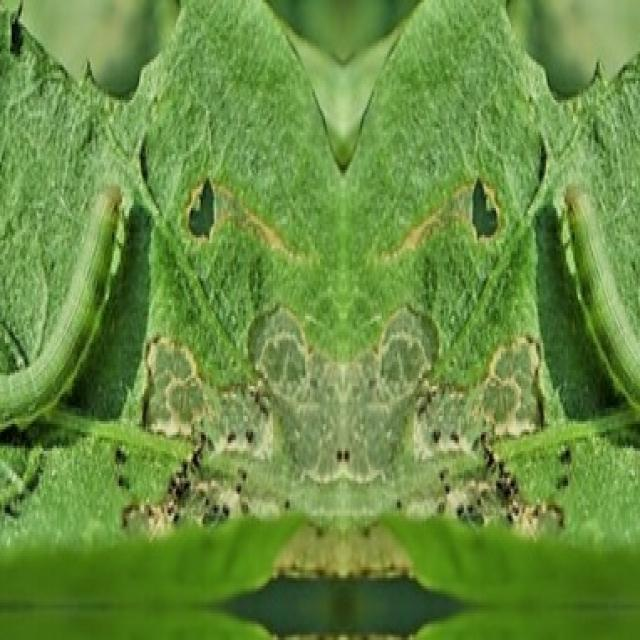armyworm: (0, 181, 126, 432), (556, 172, 640, 406)
